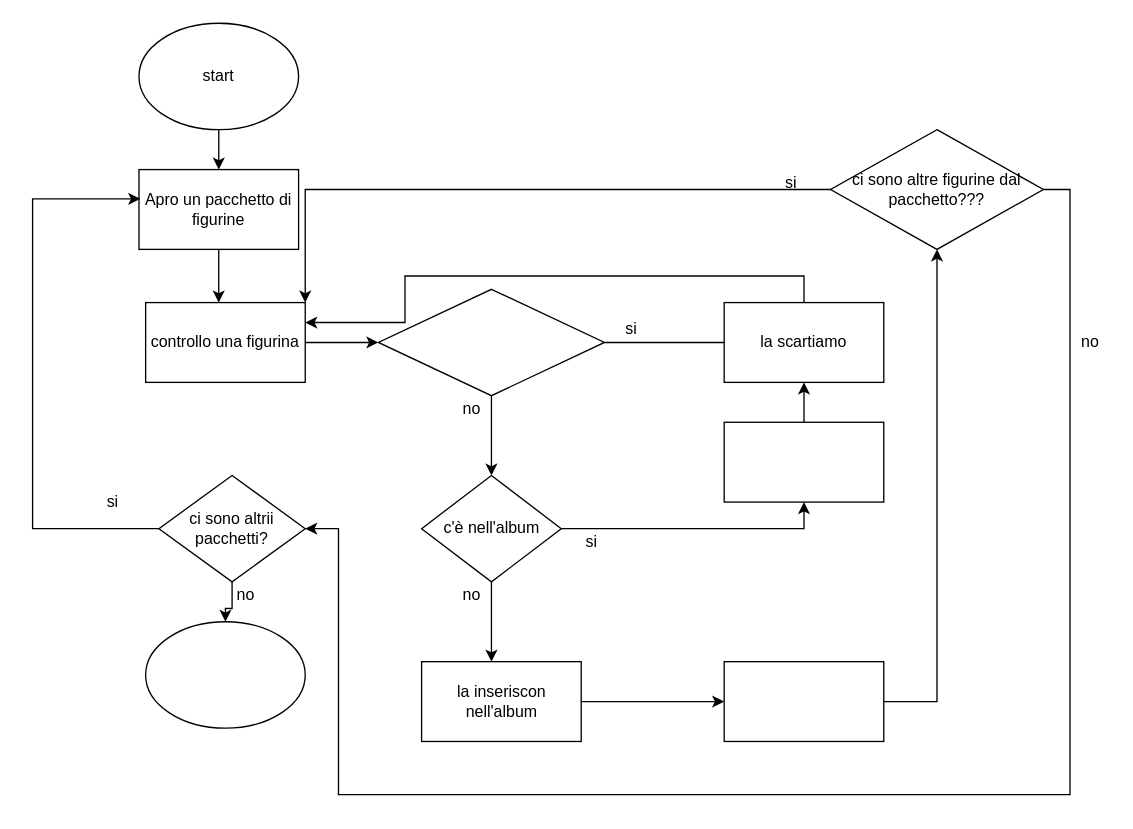
The diagram is 1133 pixels wide and 829 high, and some of its shapes have lost their labels. The centre of each missing label's shape, as x and y in pixels:
"c'è nella lista dei doppioni??" belongs at [490,342].
"Fine" belongs at [224,674].
"inserisco nella lista dei doppioni" belongs at [803,461].
"lo inseriscon nella lista dei doppioni" belongs at [803,700].
